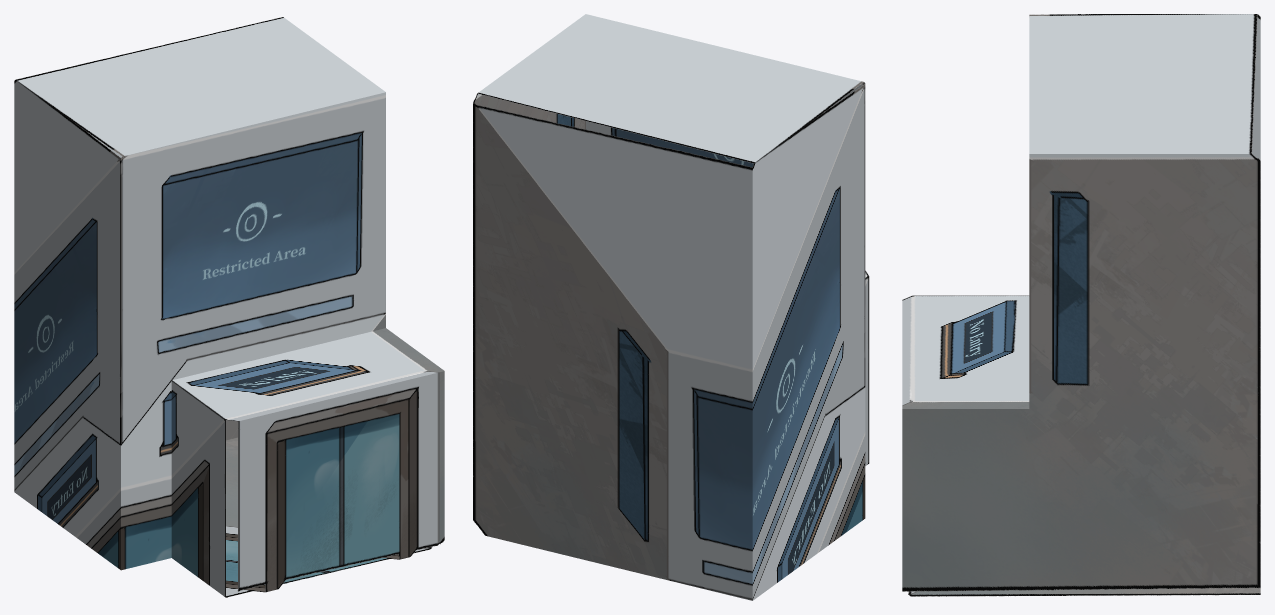
Rendered from B-4build1.fbx.
3 renders of one model, left to right at view 1: azimuth 30°, elevation 25°; view 2: azimuth 150°, elevation 25°; view 3: azimuth 270°, elevation 25°, orthographic. The views are drawn at different scales.
Parts seen in each view (by area): view 1: 立方体; view 2: 立方体; view 3: 立方体.
Boxes of the visible parts, x1=… form: 立方体: x1=14, y1=17, x2=444, y2=597; 立方体: x1=473, y1=14, x2=869, y2=600; 立方体: x1=902, y1=14, x2=1260, y2=596.
Size of the model in its own units: 1313 by 1957 by 1421.
